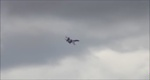maybay_muctieu: (65, 35, 80, 47)
